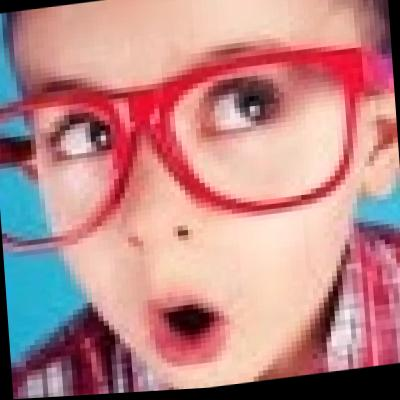surprise: (18, 0, 385, 383)
